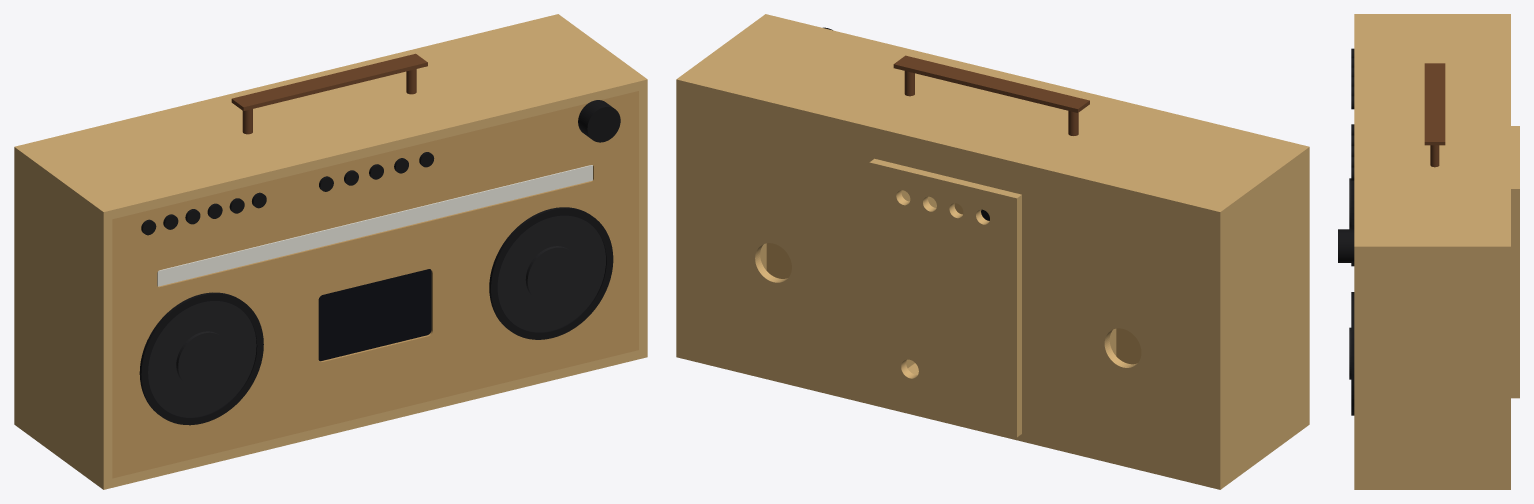
3 renders of one model, left to right at view 1: azimuth 30°, elevation 25°; view 2: azimuth 150°, elevation 25°; view 3: azimuth 270°, elevation 25°, orthographic. The views are drawn at different scales.
Parts seen in each view (by area): view 1: P5_baffle, P1_top, P3_side_L, DRV_R, DRV_L, SCREEN, DIFFUSER, P2_bottom, HANDLE, RING_L, RING_R, P4_side_R (+2 smaller); view 2: P6_back, P1_top, P9_door, P3_side_L, P2_bottom, HANDLE, P4_side_R, P5_baffle; view 3: P1_top, P4_side_R, P9_door, HANDLE, P2_bottom, KNOB, RING_R, BUTTONS, RING_L.
Boxes of the visible parts, x1,y1,x2,y2 form: P5_baffle: [112, 91, 638, 478]; P1_top: [14, 14, 647, 221]; P3_side_L: [14, 156, 112, 480]; DRV_R: [497, 215, 605, 332]; DRV_L: [148, 301, 256, 417]; SCREEN: [318, 269, 431, 361]; DIFFUSER: [157, 165, 592, 286]; P2_bottom: [14, 348, 647, 489]; HANDLE: [231, 53, 427, 134]; RING_L: [139, 292, 263, 425]; RING_R: [489, 207, 613, 339]; P4_side_R: [639, 89, 647, 349]; P6_back: [685, 91, 1211, 478]; P1_top: [676, 14, 1309, 221]; P9_door: [869, 158, 1021, 437]; P3_side_L: [1211, 156, 1309, 480]; P2_bottom: [676, 348, 1309, 489]; HANDLE: [893, 55, 1089, 135]; P4_side_R: [676, 89, 766, 349]; P5_baffle: [766, 203, 1141, 364]; P1_top: [1354, 14, 1510, 254]; P4_side_R: [1354, 254, 1510, 481]; P9_door: [1511, 126, 1519, 398]; HANDLE: [1424, 63, 1445, 167]; P2_bottom: [1354, 482, 1510, 489]; KNOB: [1338, 229, 1354, 262]; RING_R: [1351, 292, 1354, 415]; BUTTONS: [1351, 48, 1354, 180]; RING_L: [1351, 180, 1354, 266].
Bounding box in the file's own units: 738 × 244 × 411.
